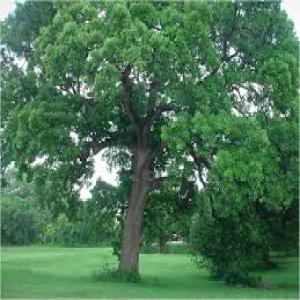Tree: (1, 0, 299, 279)
